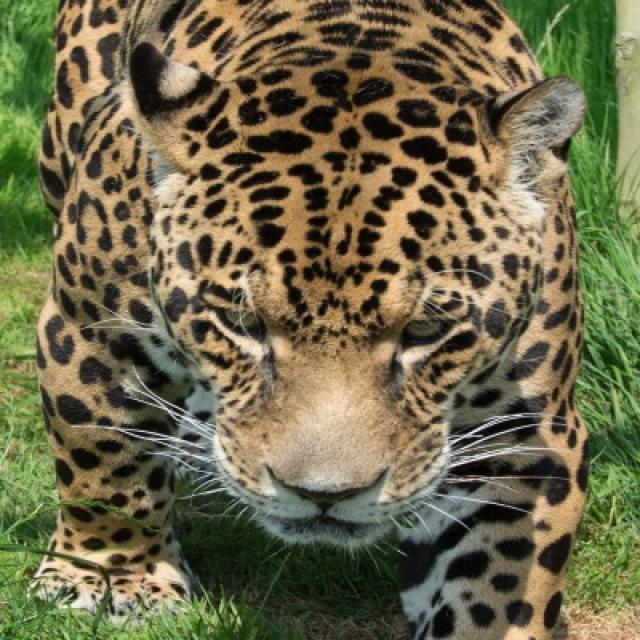Jaguar: (30, 0, 592, 638)
